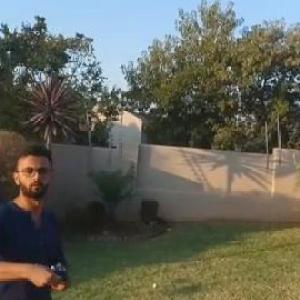follow: (0, 138, 76, 299)
